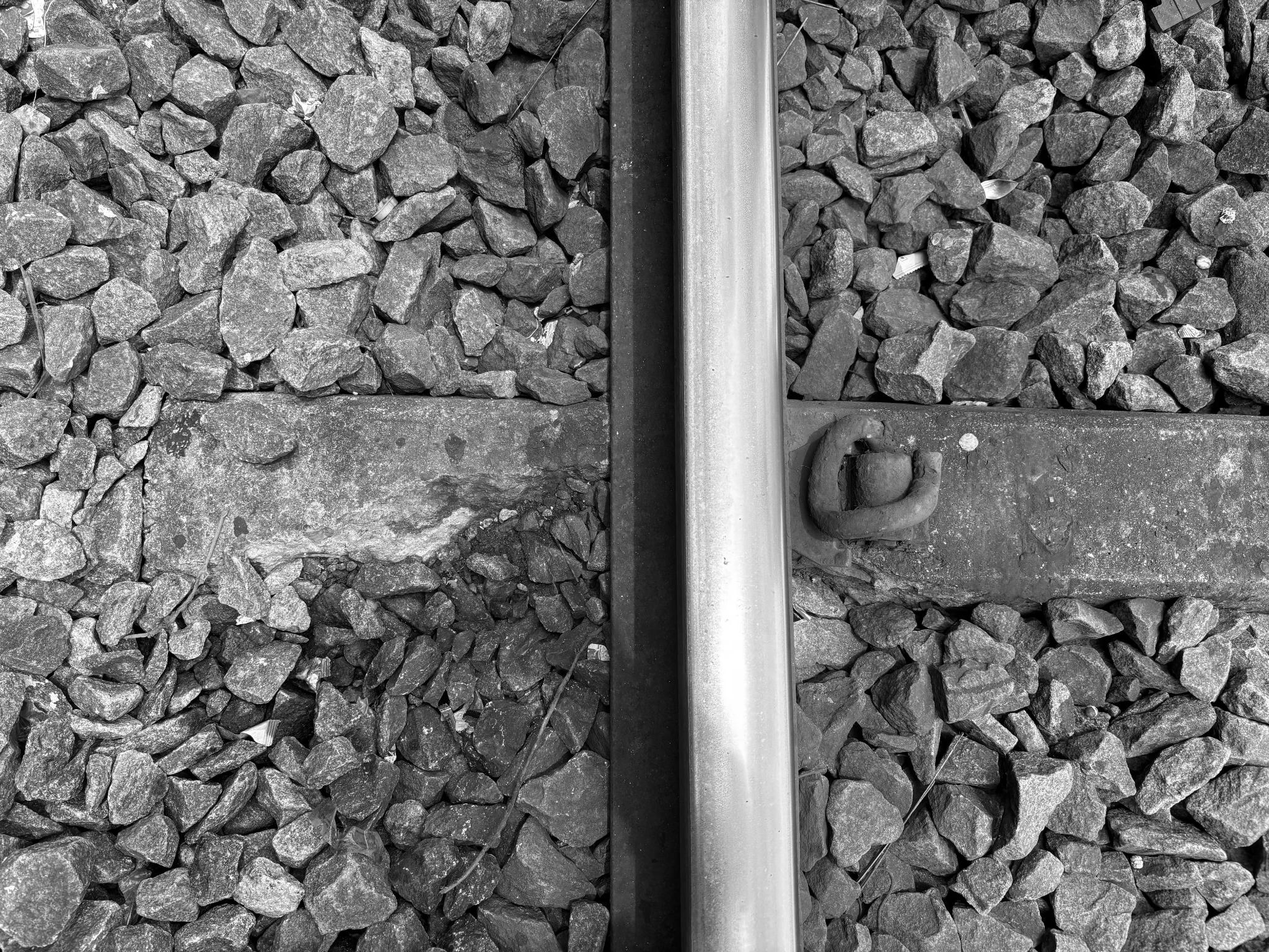cracks under rail seat: (235, 455, 613, 589), (789, 537, 986, 609)
